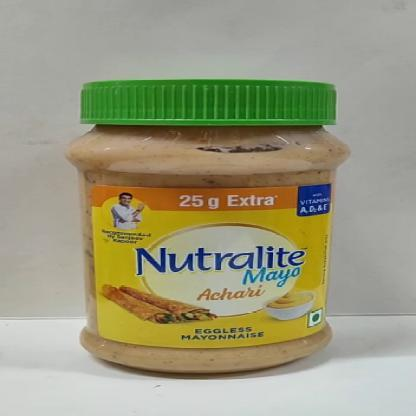Nutralite ACHARI MAYO 300g-275g-25g-: (69, 79, 349, 375)
